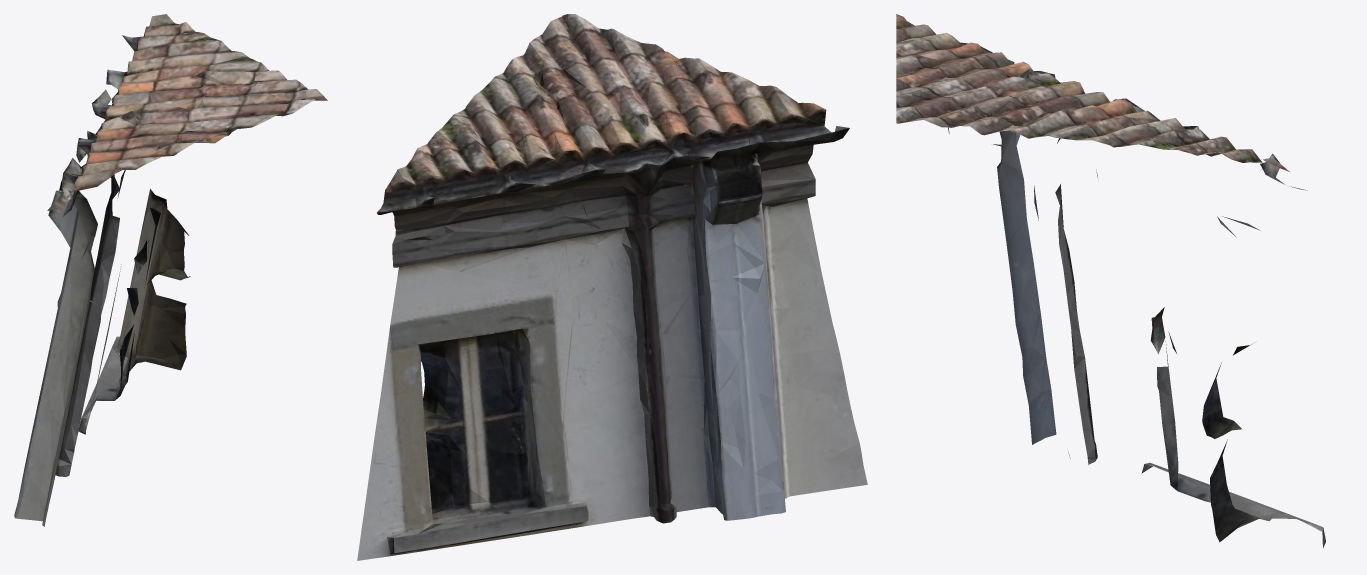
The picture shows the model from 3 angles, left to right: view 1: azimuth 30°, elevation 25°; view 2: azimuth 150°, elevation 25°; view 3: azimuth 270°, elevation 25°; orthographic projection. The views are drawn at different scales.
Bounding box in the file's own units: 2.43 × 3.04 × 2.84.
3 materials, 3 textured.
